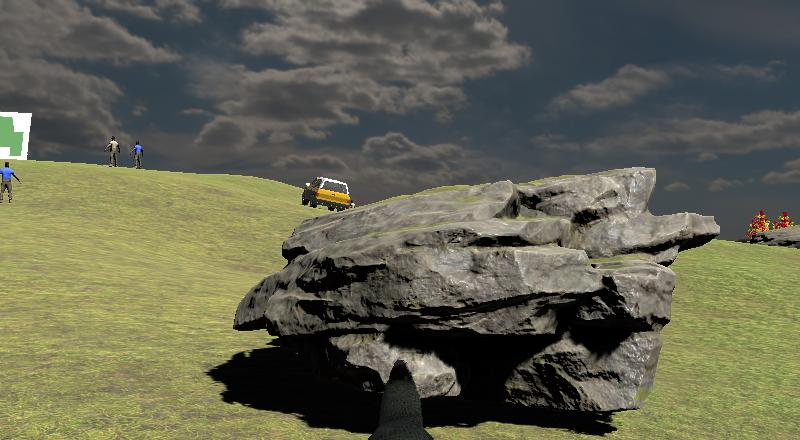Human: (0, 158, 24, 206), (102, 132, 123, 171), (128, 137, 146, 172)
car: (299, 171, 354, 217)
